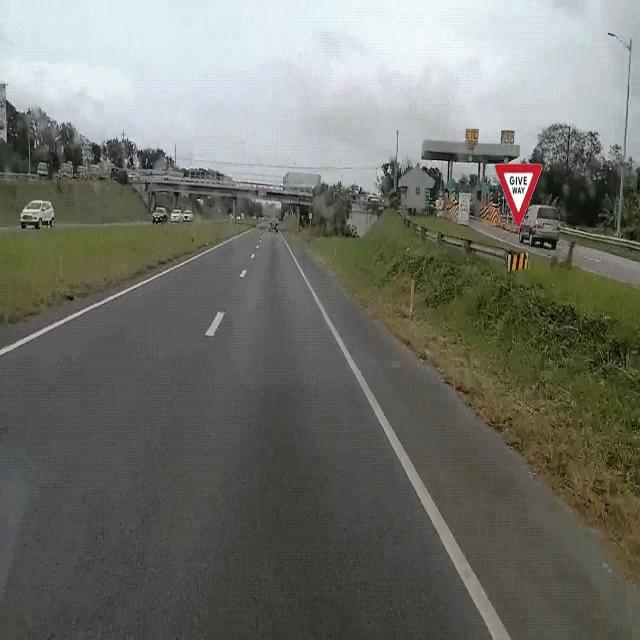Ceder-le-Passage: (490, 155, 549, 232)
